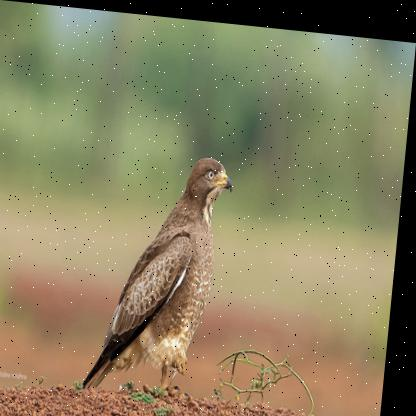Burung: (86, 141, 240, 399)
